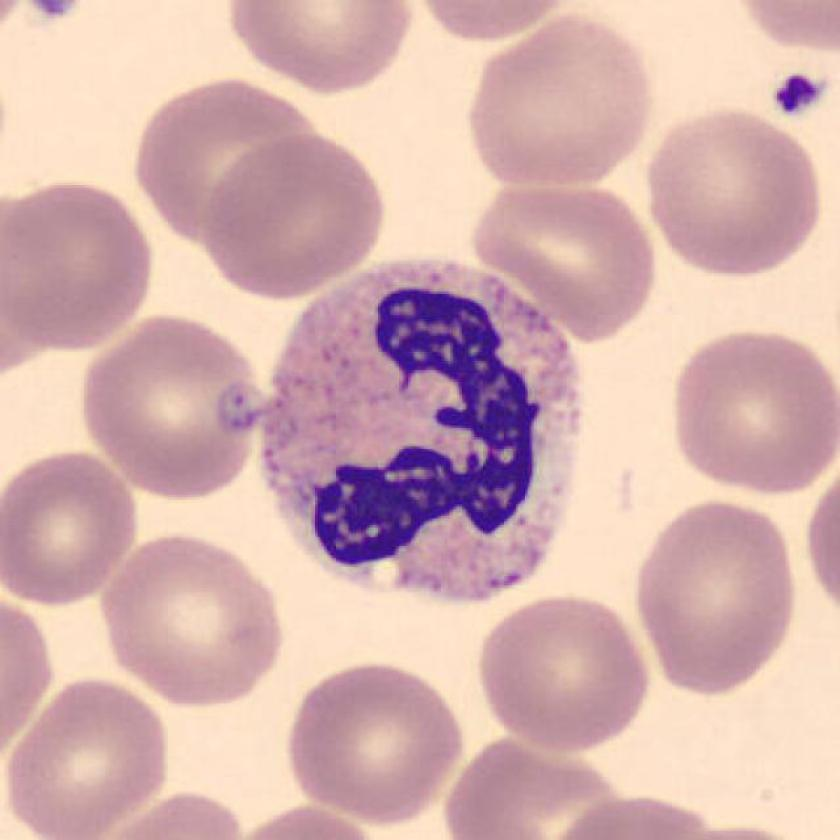neutrophil: (260, 262, 585, 600)
